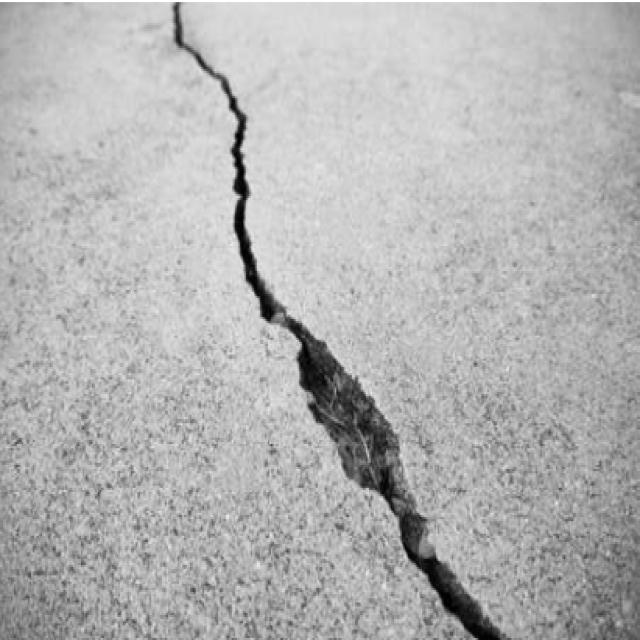diagonal crack: (175, 3, 505, 639)
